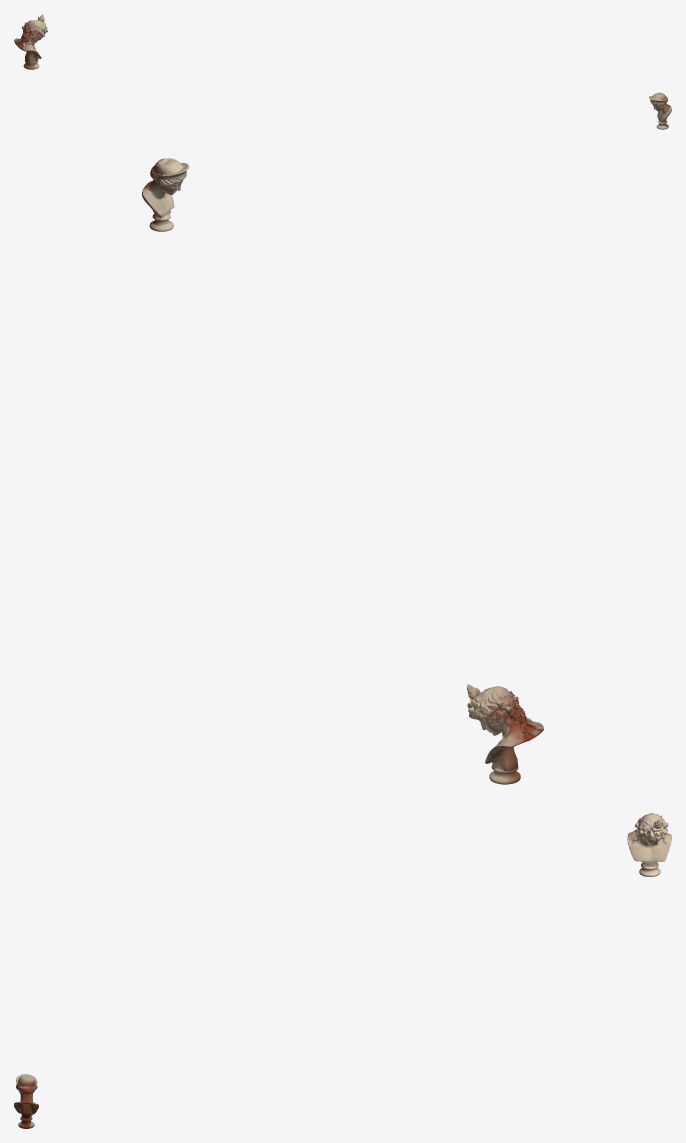
File: esculturas.glb
3 views of the same model, one above another, from view 1: azimuth 30°, elevation 25°; view 2: azimuth 150°, elevation 25°; view 3: azimuth 270°, elevation 25° (orthographic). The views are drawn at different scales.
Visible parts, largest first — view 1: escultura_antinoo, escultura_hera; view 2: escultura_antinoo, escultura_hera; view 3: escultura_antinoo, escultura_hera.
Part boxes in pixels (x1,y1,x2,y2): escultura_antinoo: (14,14,47,69); escultura_hera: (649,92,671,129); escultura_antinoo: (467,684,543,784); escultura_hera: (142,158,189,231); escultura_antinoo: (627,813,671,876); escultura_hera: (14,1074,38,1128).
Bounding box in the file's own units: 9.35 × 0.97 × 9.29.
